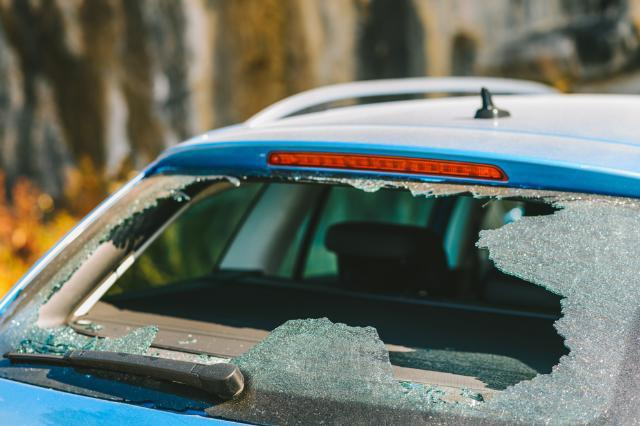Windshield: (2, 173, 633, 425)
